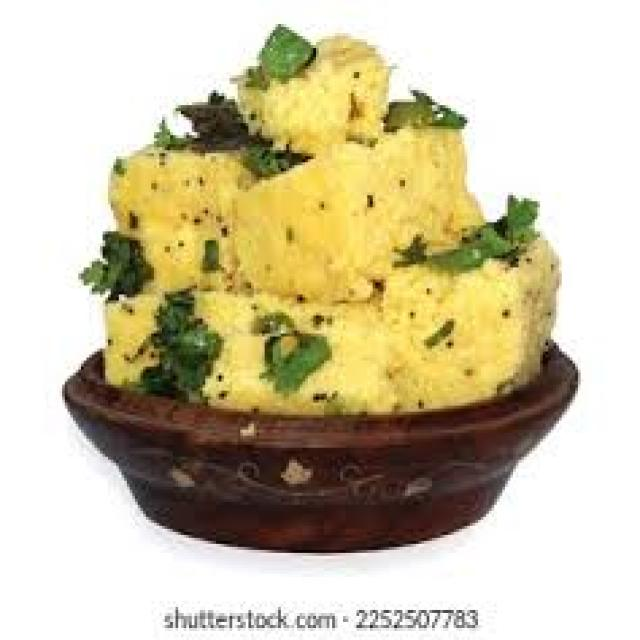DHOKLA: (224, 129, 481, 300), (386, 249, 554, 409), (200, 294, 397, 412), (111, 144, 254, 288), (238, 27, 389, 153)
